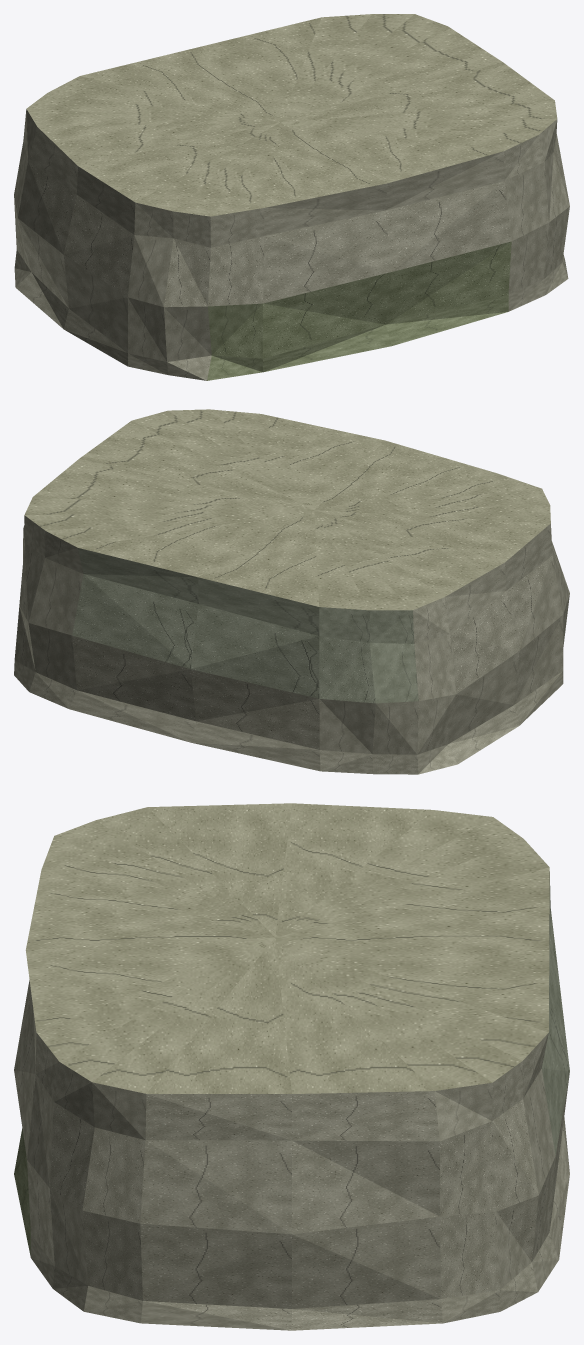
The model's file is SM_QD_UrbanRock_B_GraniteLedge.fbx.
The picture shows the model from 3 angles, top to bottom: view 1: azimuth 30°, elevation 25°; view 2: azimuth 150°, elevation 25°; view 3: azimuth 270°, elevation 25°; orthographic projection. The views are drawn at different scales.
Parts seen in each view (by area): view 1: SM_QD_UrbanRock_B_GraniteLedge; view 2: SM_QD_UrbanRock_B_GraniteLedge; view 3: SM_QD_UrbanRock_B_GraniteLedge.
Part boxes in pixels (x1,y1,x2,y2): SM_QD_UrbanRock_B_GraniteLedge: (14, 14, 569, 380); SM_QD_UrbanRock_B_GraniteLedge: (14, 409, 569, 774); SM_QD_UrbanRock_B_GraniteLedge: (14, 803, 569, 1330).
Size of the model in its own units: 6 by 4.5 by 2.
1 material, 1 textured.
